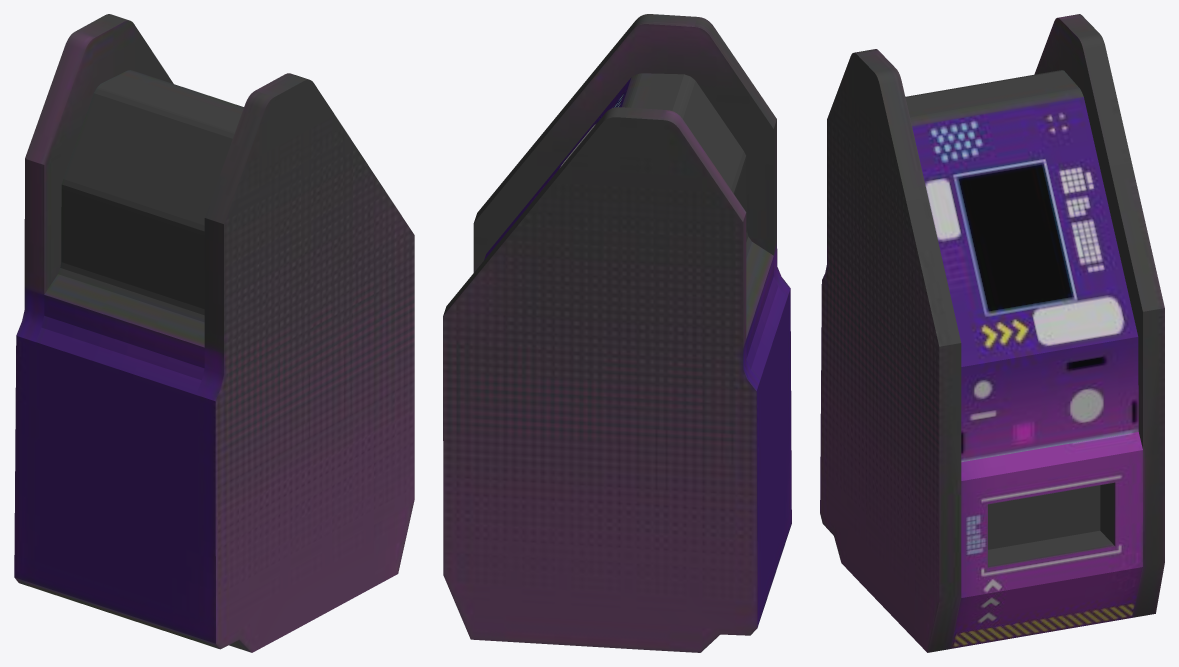
Rendered from CandyMachinePreview_Low.glb.
3 renders of one model, left to right at view 1: azimuth 30°, elevation 25°; view 2: azimuth 150°, elevation 25°; view 3: azimuth 270°, elevation 25°, orthographic. The views are drawn at different scales.
Parts seen in each view (by area): view 1: Candymachine; view 2: Candymachine; view 3: Candymachine.
Part boxes in pixels (<box>): Candymachine: <box>14,14,414,652</box>; Candymachine: <box>443,14,791,652</box>; Candymachine: <box>820,14,1164,652</box>.
Bounding box in the file's own units: 64.32 × 97.1 × 57.98.
Materials: 1 (1 with a texture image).
